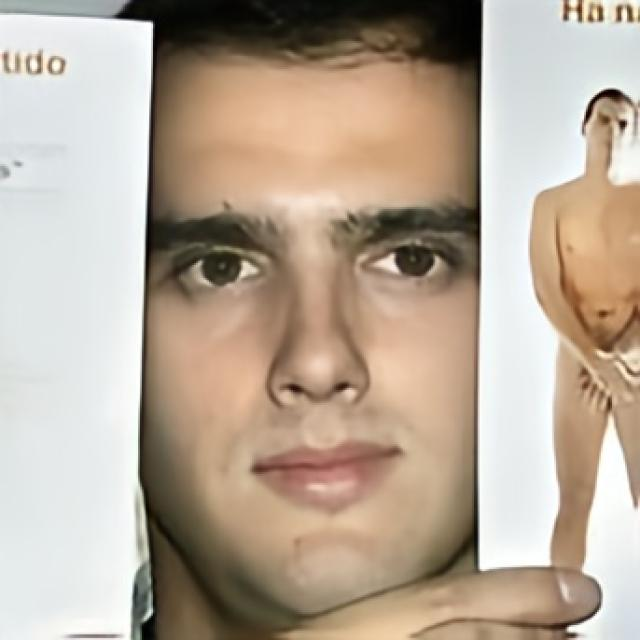content: (141, 8, 482, 617)
